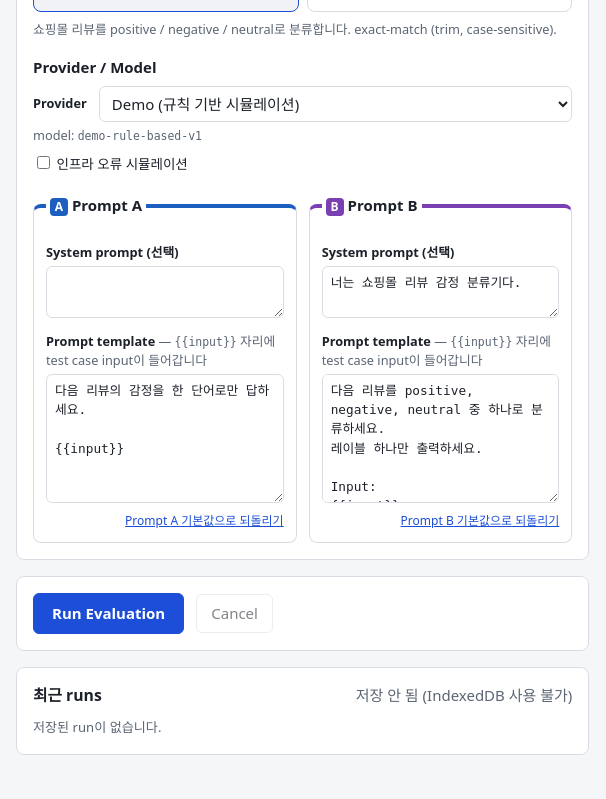
App › validation 실패 시 오류 목록을 보여주고 run을 시작하지 않는다
(page scrolled)
Replace the text in the 2nd text box labelled "Prompt template — {{input}} 자리에 test case input이 들어갑니다" with "입력 없이 분류" at (441, 439), box [322,374,559,503]
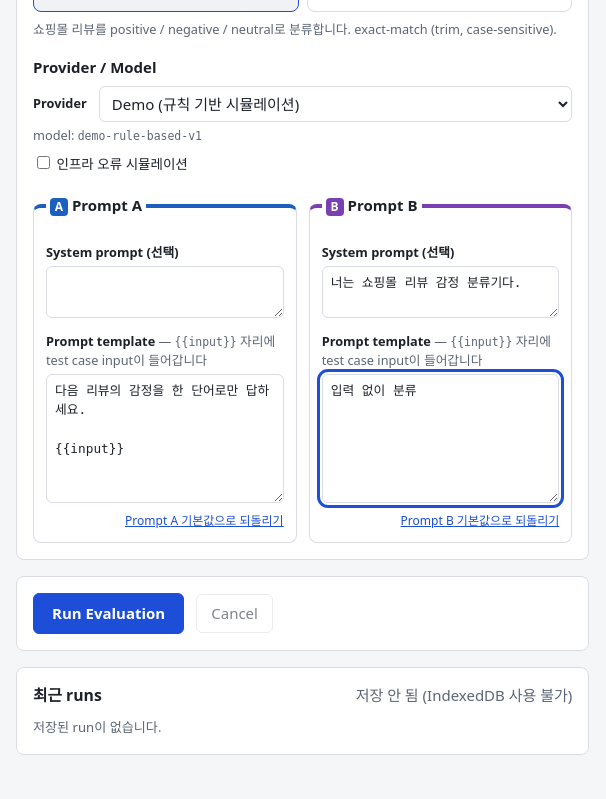
Click the button "Run Evaluation" at (109, 614), box [33,593,184,634]
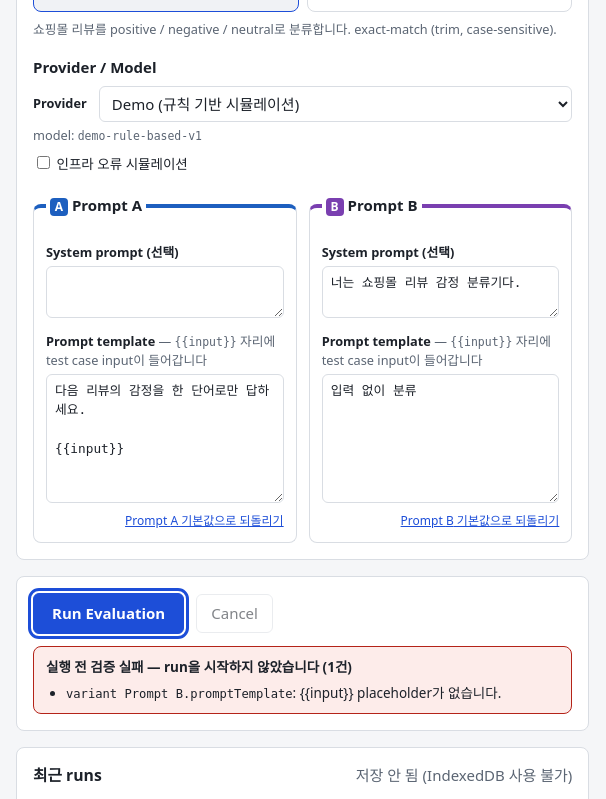
Expected: the message shows "실행 전 검증 실패", [46,658,327,676]
Expected: the message shows "{{input}} placeholder가 없습니다.", [300,684,501,702]
